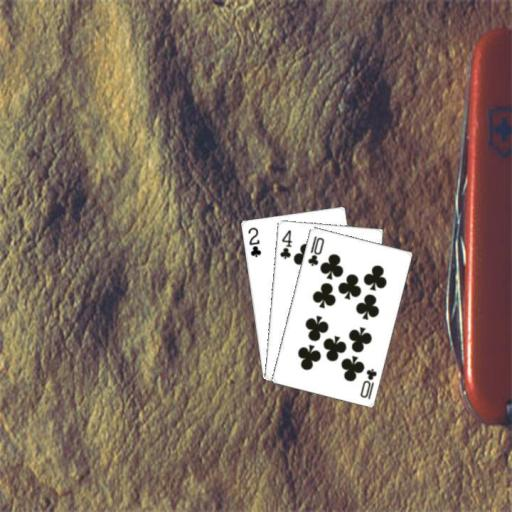10C: (304, 233, 326, 268), (357, 365, 378, 400)
2C: (245, 224, 263, 258)
4C: (277, 226, 293, 260)
